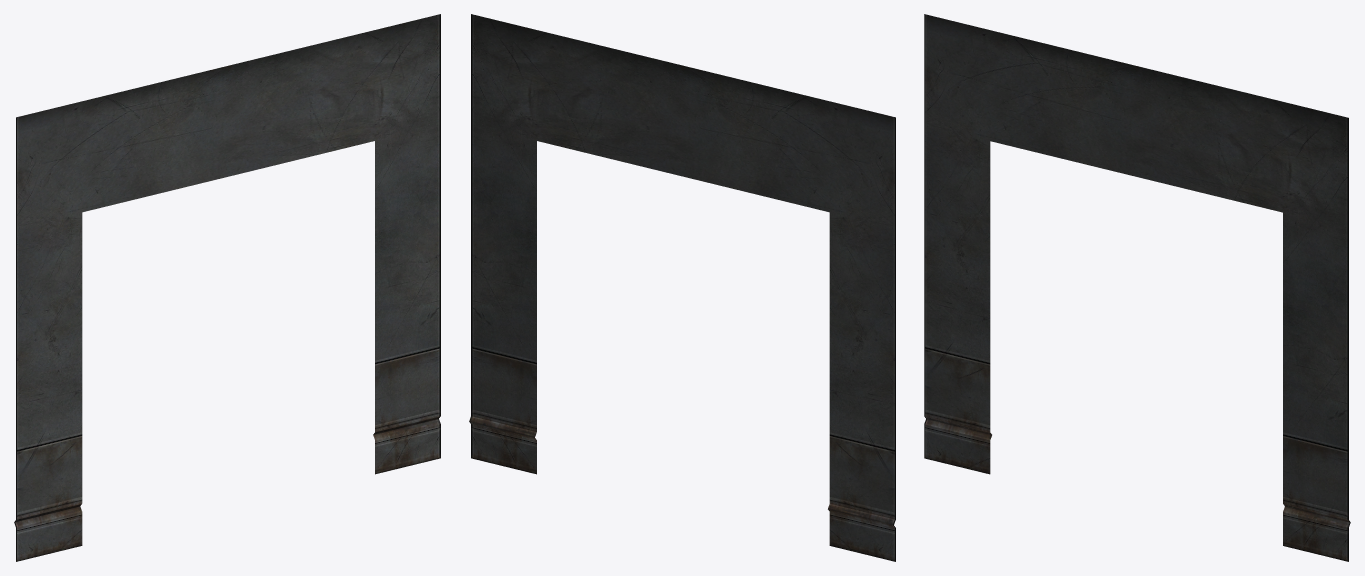
File: datasite_flat04_doorway_wide.dae
3 views of the same model, side by side, from view 1: azimuth 30°, elevation 25°; view 2: azimuth 150°, elevation 25°; view 3: azimuth 330°, elevation 25° (orthographic).
Parts seen in each view (by area): view 1: pPlane3; view 2: pPlane3; view 3: pPlane3.
Part boxes in pixels (box(x1,y1,x2,y2)): pPlane3: box(14, 14, 440, 561); pPlane3: box(469, 14, 895, 561); pPlane3: box(924, 14, 1350, 561).
Bounding box in the file's own units: 4 × 4 × 0.0316.
